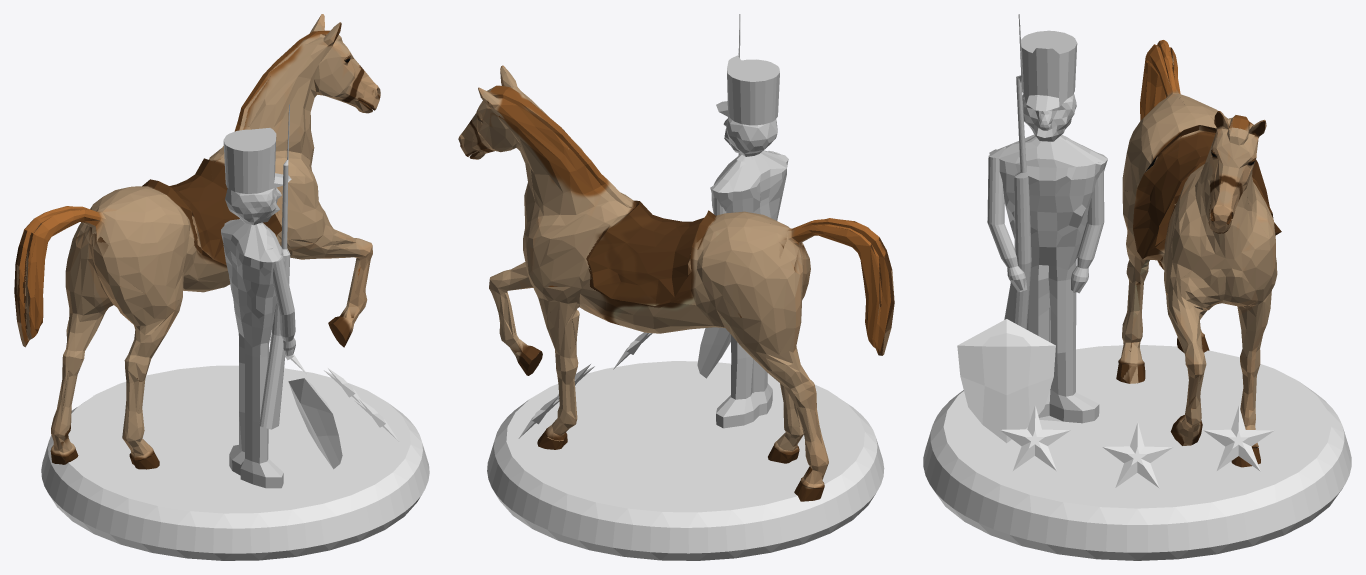
Rendered from Cavalry.fbx.
3 renders of one model, left to right at view 1: azimuth 30°, elevation 25°; view 2: azimuth 150°, elevation 25°; view 3: azimuth 270°, elevation 25°, orthographic. The views are drawn at different scales.
Parts seen in each view (by area): view 1: Base, Unit2.001, Unit1, Shield; view 2: Unit2.001, Base, Unit1, Shield; view 3: Base, Unit2.001, Unit1, Shield, Star2, Star1, Star3.
Part boxes in pixels (left/top/right/bottom): Base: left=41, top=365, right=429, bottom=560; Unit2.001: left=14, top=14, right=380, bottom=469; Unit1: left=221, top=104, right=295, bottom=488; Shield: left=288, top=378, right=342, bottom=469; Unit2.001: left=458, top=65, right=894, bottom=501; Base: left=487, top=361, right=884, bottom=560; Unit1: left=710, top=14, right=788, bottom=428; Shield: left=697, top=327, right=730, bottom=378; Base: left=923, top=345, right=1351, bottom=560; Unit2.001: left=1116, top=40, right=1281, bottom=467; Unit1: left=987, top=14, right=1107, bottom=423; Shield: left=957, top=319, right=1055, bottom=443; Star2: left=1000, top=405, right=1070, bottom=470; Star1: left=1102, top=422, right=1172, bottom=487; Star3: left=1203, top=405, right=1273, bottom=471.
Size of the model in its own units: 47.52 by 48.15 by 40.7.
